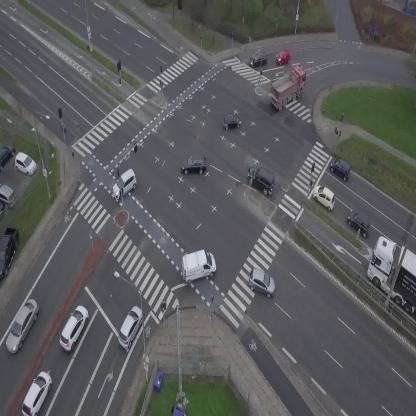car: (0, 296, 44, 356), (54, 302, 94, 353), (17, 368, 57, 416), (114, 303, 147, 351), (241, 161, 281, 198), (106, 167, 142, 202), (244, 266, 280, 298), (342, 208, 375, 238), (309, 183, 340, 211), (326, 154, 356, 181), (180, 154, 207, 174), (247, 50, 269, 67), (222, 112, 242, 130), (273, 48, 292, 66)
lorry: (262, 62, 316, 113), (176, 247, 220, 287)
